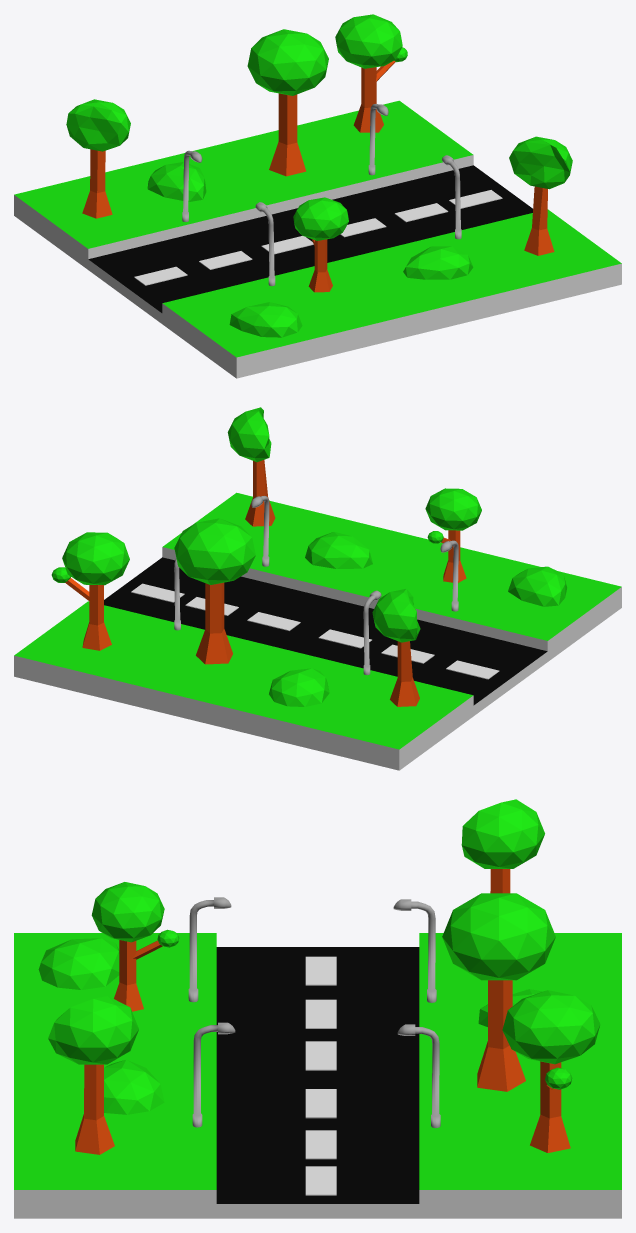
The picture shows the model from 3 angles, top to bottom: view 1: azimuth 30°, elevation 25°; view 2: azimuth 150°, elevation 25°; view 3: azimuth 270°, elevation 25°; orthographic projection. The views are drawn at different scales.
Visible parts, largest first — view 1: Cube.011; view 2: Cube.011; view 3: Cube.011.
Part boxes in pixels (bbox=[...]): Cube.011: bbox=[14, 14, 621, 378]; Cube.011: bbox=[14, 407, 621, 770]; Cube.011: bbox=[14, 799, 621, 1218].
Size of the model in its own units: 200 by 78.74 by 200.
